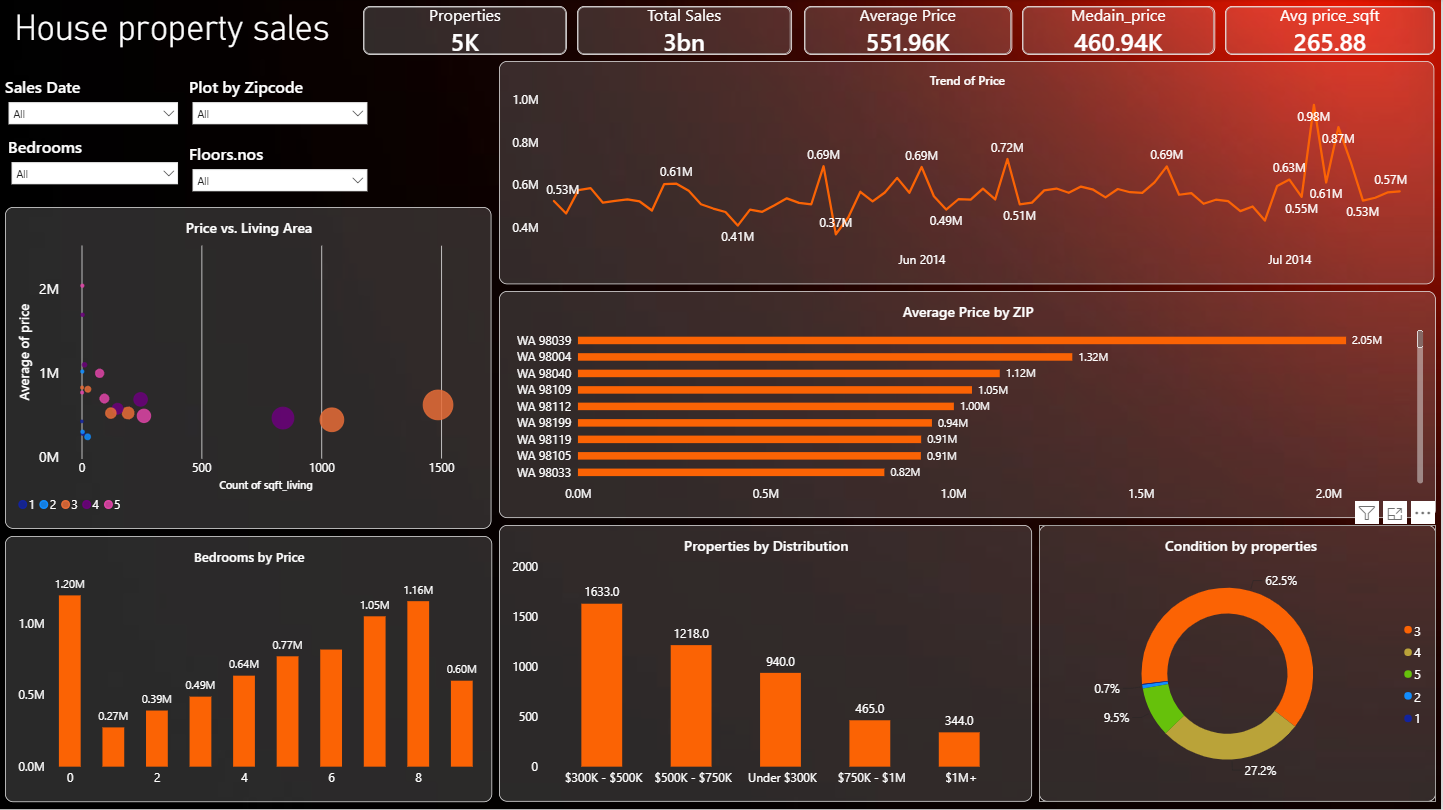

What the dashboard file says about the page in this screenshot:
{"tool":"powerbi","page":{"name":"welcome","canvas":[1920,1080],"ordinal":1},"visuals":[{"type":"cardVisual","fields":{"Data":["modified_data.total_sales_value"]},"box":[770.1,9.3,286,65.2],"z":0},{"type":"cardVisual","fields":{"Data":["modified_data.avg prices"]},"box":[1632,9.3,279.3,65.2],"z":1000},{"type":"cardVisual","fields":{"Data":["modified_data.avg living"]},"box":[1072,9.3,276.7,65.2],"z":2000},{"type":"cardVisual","fields":{"Data":["modified_data.medain_sale"]},"box":[1362,9.3,256.7,65.2],"z":3000},{"type":"cardVisual","fields":{"Data":["modified_data.Properties"]},"box":[485.5,9.3,271.3,65.2],"z":4000},{"type":"lineChart","title":"Trend of Price","fields":{"Category":["modified_data.date.Variation.Date Hierarchy.Year","modified_data.date.Variation.Date Hierarchy.Quarter","modified_data.date.Variation.Date Hierarchy.Month","modified_data.date.Variation.Date Hierarchy.Day"],"Y":["modified_data.Average Price"]},"box":[666,83,1244,297],"z":5000},{"type":"clusteredBarChart","title":"Average Price by ZIP","fields":{"Category":["modified_data.statezip"],"Y":["modified_data.Average Price"]},"box":[666.4,388.4,1246.3,301.9],"z":6000},{"type":"donutChart","title":"Condition by properties","fields":{"Category":["modified_data.condition"],"Y":["modified_data.Properties"]},"box":[1384.6,699.6,528,368.4],"z":7000},{"type":"columnChart","title":"Bedrooms by Price","fields":{"Category":["modified_data.bedrooms"],"Y":["modified_data.Average Price"]},"box":[9.3,714.2,647.7,353.8],"z":8000},{"type":"clusteredColumnChart","title":"Properties by Distribution ","fields":{"Category":["modified_data.price category"],"Y":["modified_data.Properties"]},"box":[666.4,699.6,708.9,368.4],"z":9000},{"type":"slicer","title":"Sales Date","fields":{"Values":["modified_data.date"]},"box":[9.3,102.4,235.4,65.2],"z":10000},{"type":"slicer","title":"Plot by Zipcode","fields":{"Values":["modified_data.statezip"]},"box":[254,102.4,242.1,79.8],"z":11000},{"type":"slicer","title":"Floors.nos","fields":{"Values":["modified_data.floors"]},"box":[254,191.5,242.1,71.8],"z":12000},{"type":"slicer","title":"Bedrooms","fields":{"Values":["modified_data.bedrooms"]},"box":[13.3,182.2,231.4,81.1],"z":13000},{"type":"scatterChart","title":"Price vs. Living Area","fields":{"Category":["modified_data.floors"],"Series":["modified_data.condition"],"Size":["Count(modified_data.sqft_lot)"],"X":["CountNonNull(modified_data.sqft_living)"],"Y":["Avg(modified_data.price)"]},"box":[9.3,276.7,647,428],"z":14000},{"type":"textbox","box":[13.3,9.3,436.3,95.8],"z":15000}]}

Visuals, with their boxes in screenshot pixels (x1, y1, x2, y2), scaled from the page's 1920x1080 canvas onto the 1443x810 screenshot:
cardVisual - modified_data.total_sales_value: 579, 7, 794, 56
cardVisual - modified_data.avg prices: 1227, 7, 1436, 56
cardVisual - modified_data.avg living: 806, 7, 1014, 56
cardVisual - modified_data.medain_sale: 1024, 7, 1217, 56
cardVisual - modified_data.Properties: 365, 7, 569, 56
"Trend of Price" lineChart: 501, 62, 1435, 285
"Average Price by ZIP" clusteredBarChart: 501, 291, 1438, 518
"Condition by properties" donutChart: 1041, 525, 1437, 801
"Bedrooms by Price" columnChart: 7, 536, 494, 801
"Properties by Distribution " clusteredColumnChart: 501, 525, 1034, 801
"Sales Date" slicer: 7, 77, 184, 126
"Plot by Zipcode" slicer: 191, 77, 373, 137
"Floors.nos" slicer: 191, 144, 373, 197
"Bedrooms" slicer: 10, 137, 184, 197
"Price vs. Living Area" scatterChart: 7, 208, 493, 529
textbox: 10, 7, 338, 79
